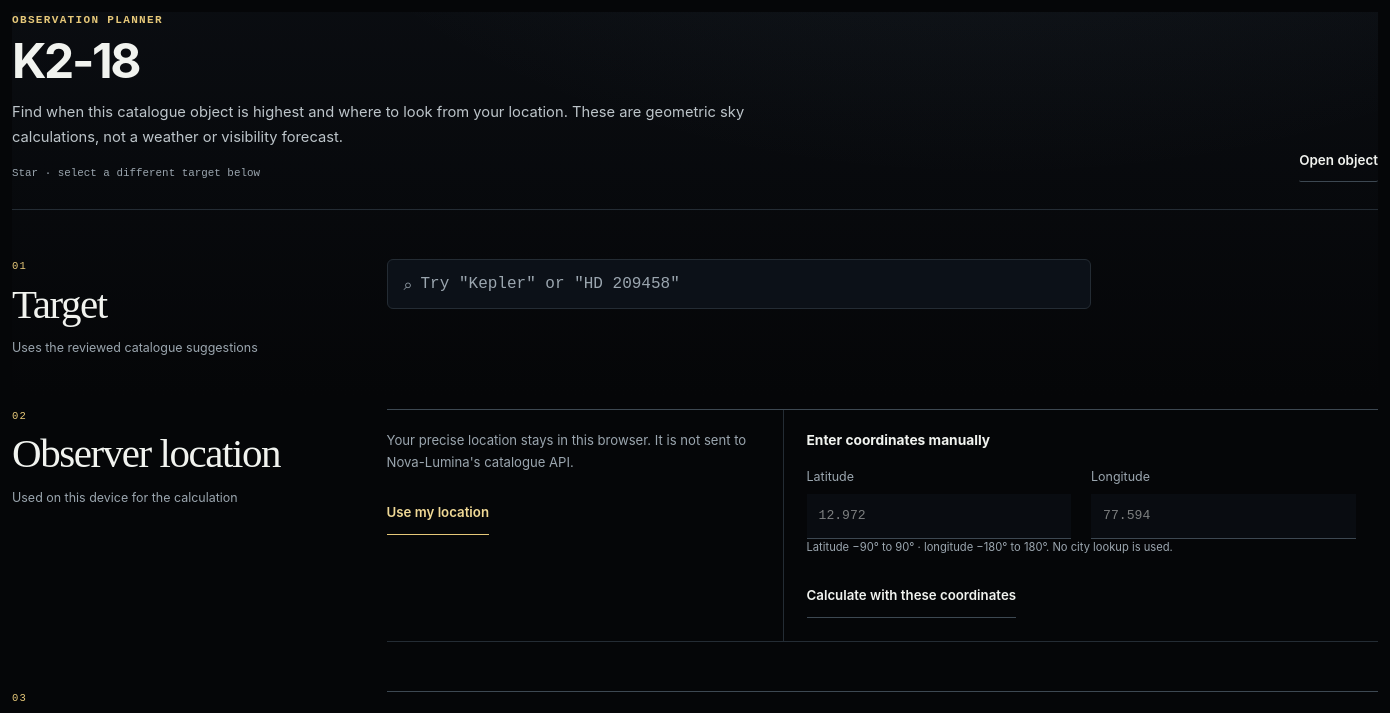
Test: ObservationPlanner › keeps geolocation explicit and leaves manual fallback after denial
Step 1. Click the button "Use my location" → point(438, 513), box x1=386 y1=491 x2=489 y2=535
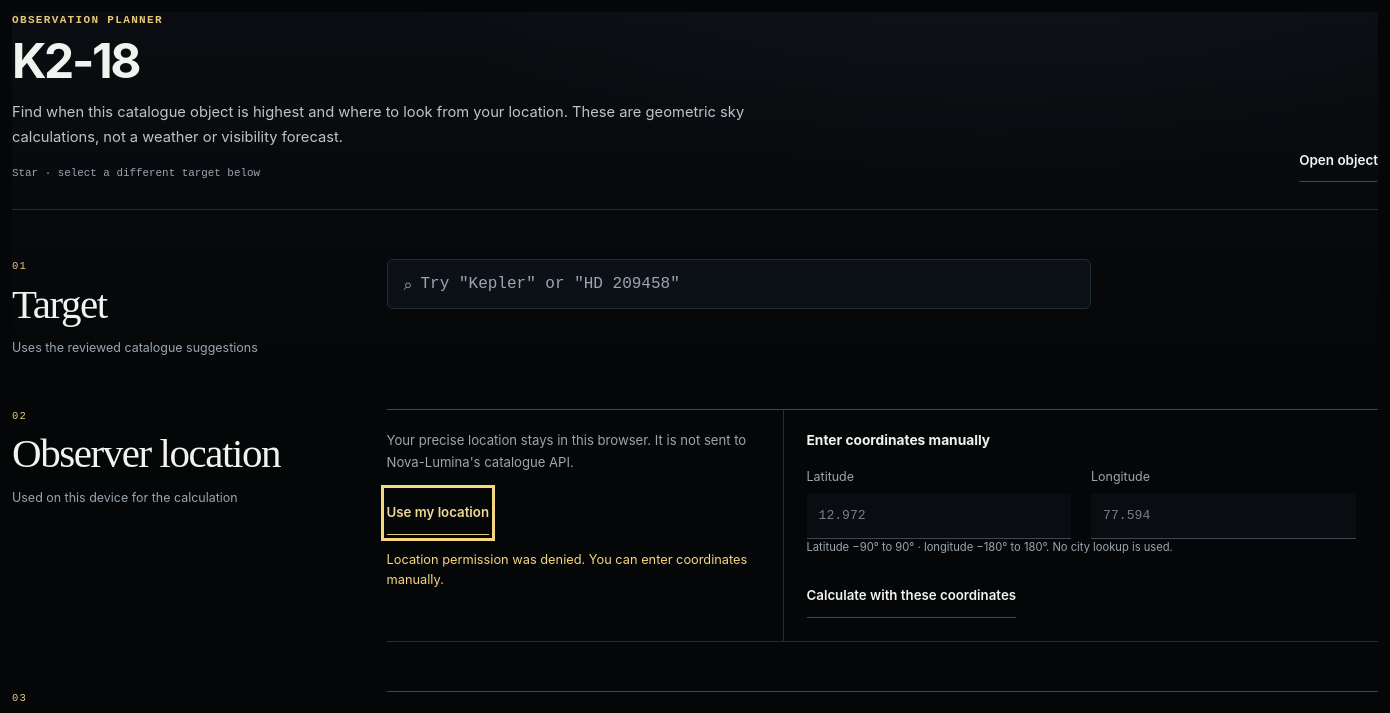
Expected: the field labelled "Latitude" is shown, x1=806 y1=494 x2=1071 y2=539
Expected: the message shows "permission was denied", x1=386 y1=552 x2=747 y2=586
